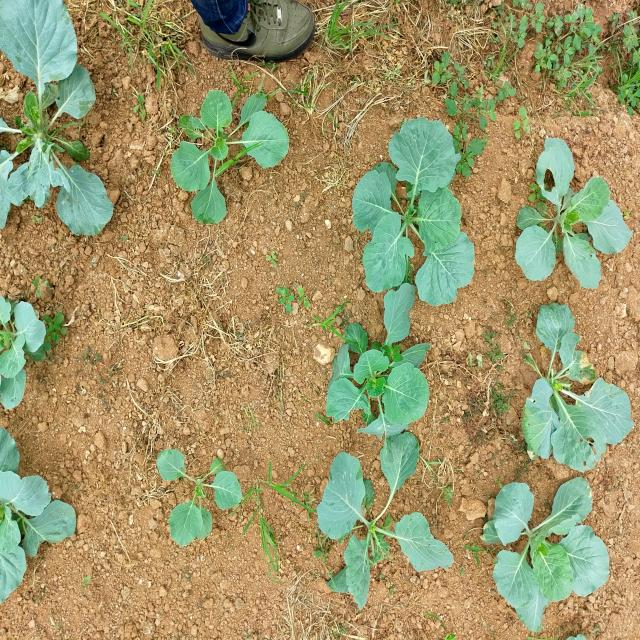Cabbage: (0, 4, 135, 246), (353, 103, 479, 330), (311, 439, 458, 618), (486, 465, 619, 639), (516, 298, 637, 482), (509, 124, 633, 294), (166, 76, 293, 226), (315, 308, 435, 443), (0, 456, 78, 614), (157, 445, 246, 551), (0, 286, 49, 414)
